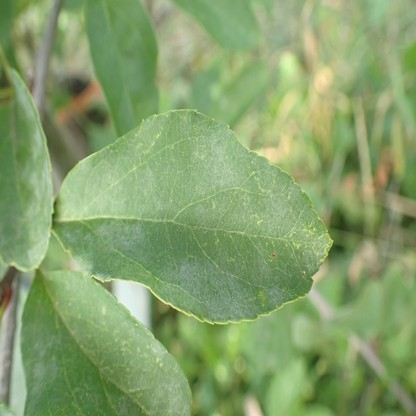powder: (181, 110, 285, 231), (0, 68, 50, 266), (162, 258, 258, 321), (95, 6, 142, 121), (63, 221, 147, 277), (21, 321, 58, 416), (140, 163, 177, 211), (254, 253, 289, 302), (149, 382, 190, 416), (151, 341, 166, 357), (119, 397, 128, 416)
